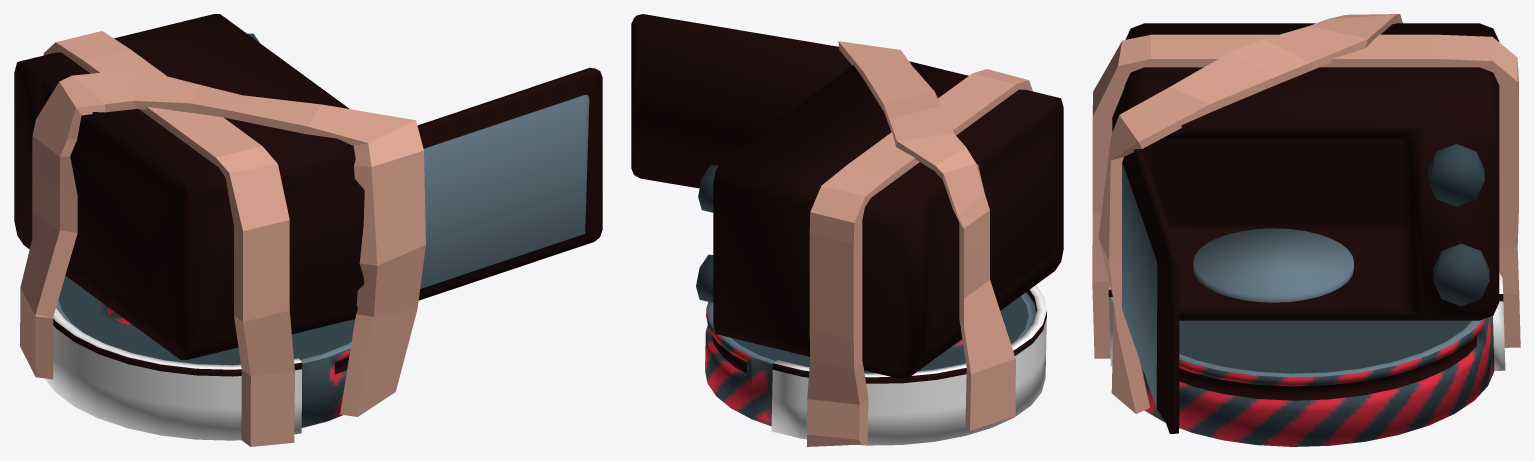
The model's file is микроволновка.fbx_Scene.fbx.
The picture shows the model from 3 angles, left to right: view 1: azimuth 30°, elevation 25°; view 2: azimuth 150°, elevation 25°; view 3: azimuth 270°, elevation 25°; orthographic projection. The views are drawn at different scales.
Parts seen in each view (by area): view 1: Цилиндр.002; view 2: Цилиндр.002; view 3: Цилиндр.002.
Boxes of the visible parts, x1=… form: Цилиндр.002: x1=14, y1=14, x2=602, y2=446; Цилиндр.002: x1=631, y1=14, x2=1063, y2=446; Цилиндр.002: x1=1092, y1=14, x2=1520, y2=446.
Bounding box in the file's own units: 320 × 181 × 229.
2 materials, 2 textured.
